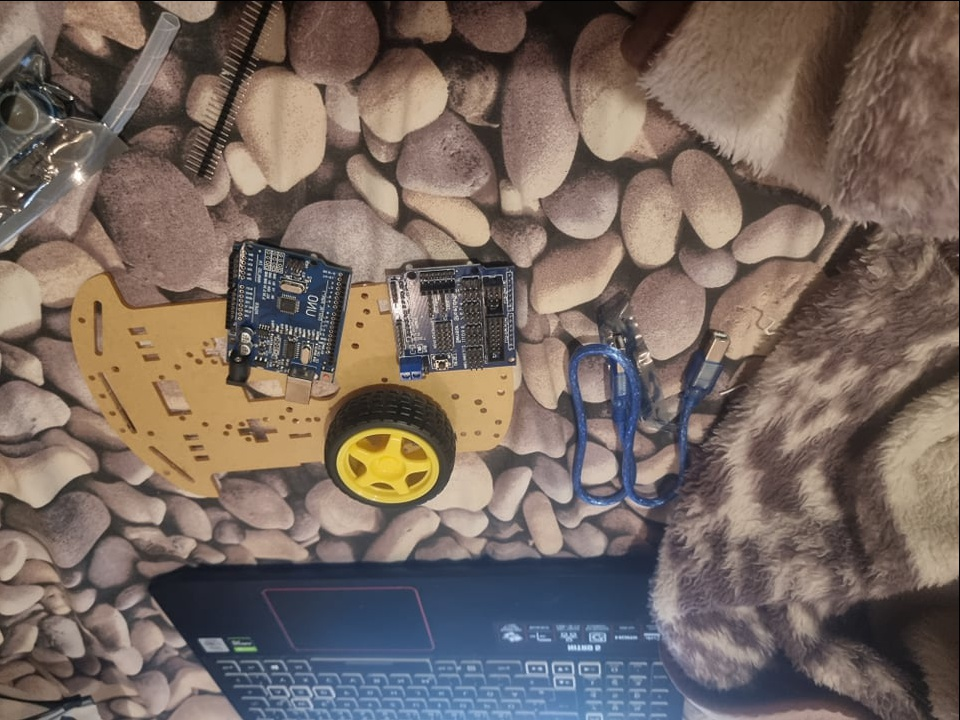5V EXPANSION: (387, 262, 519, 378)
SENSOR: (1, 72, 60, 168)
UNO R3: (226, 236, 352, 404)
